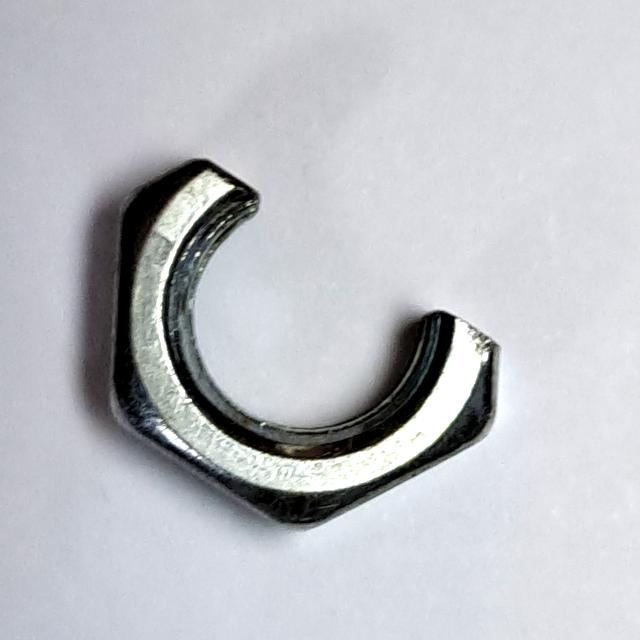Fracture: (94, 134, 522, 553)
